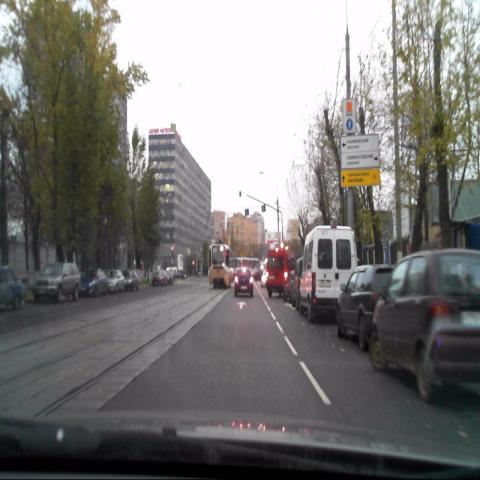4_8_2: (342, 97, 356, 133)
